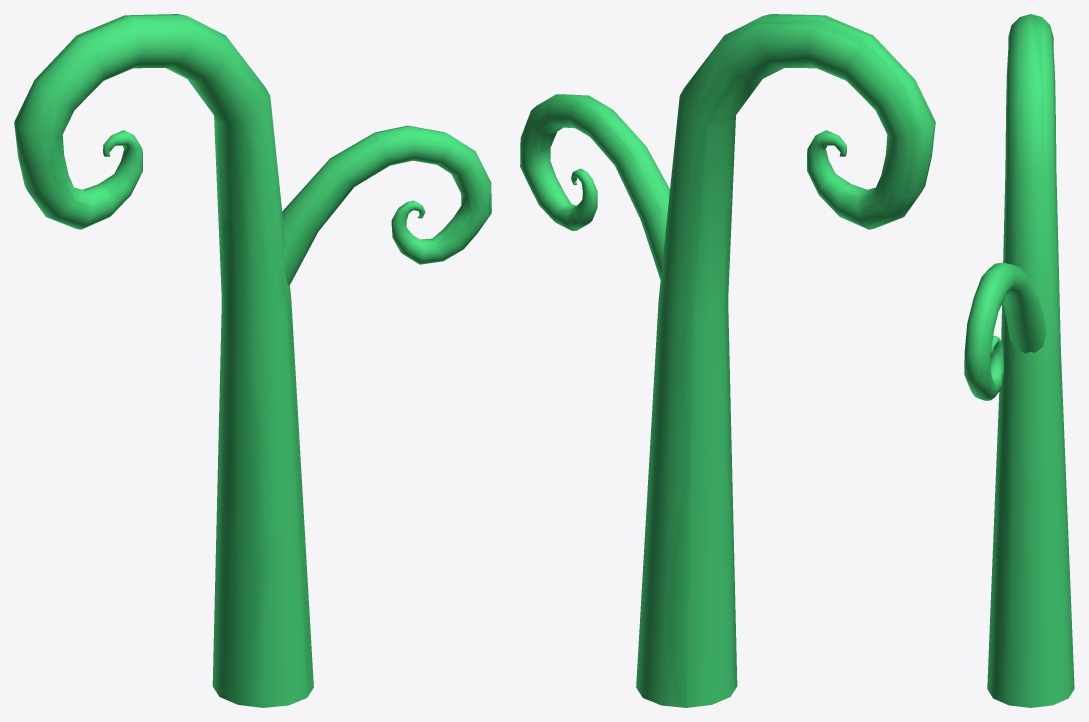
The model's file is swirlly thing.FBX.
3 views of the same model, side by side, from view 1: azimuth 30°, elevation 25°; view 2: azimuth 150°, elevation 25°; view 3: azimuth 270°, elevation 25° (orthographic). The views are drawn at different scales.
Visible parts, largest first — view 1: Line002; view 2: Line002; view 3: Line002.
Part boxes in pixels (<box>): Line002: <box>14,14,491,707</box>; Line002: <box>520,14,935,707</box>; Line002: <box>964,14,1074,707</box>.
Size of the model in its own units: 96.57 by 147 by 24.2.
